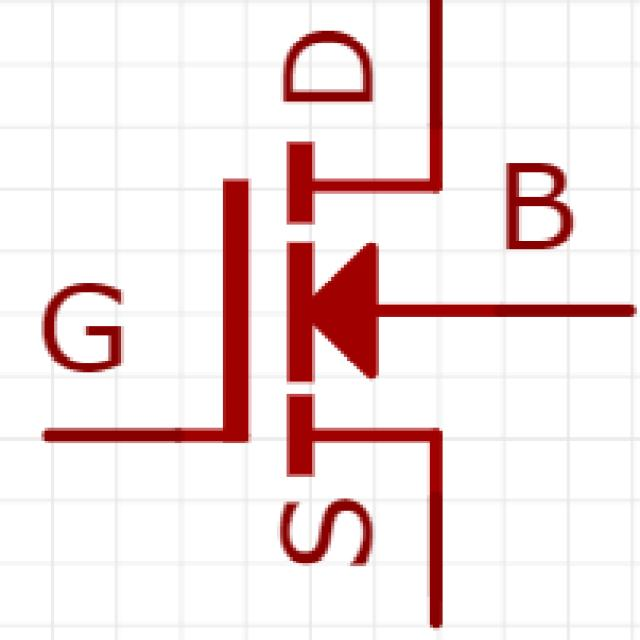nmos: (22, 22, 640, 624)
